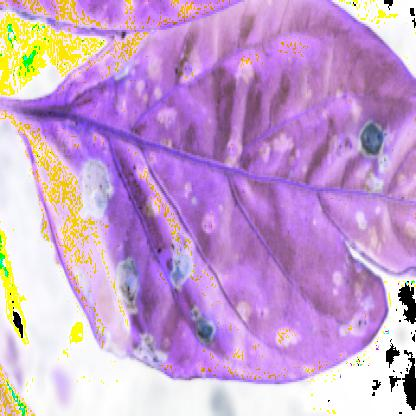bell pepper leaf spot: (36, 16, 415, 384)
